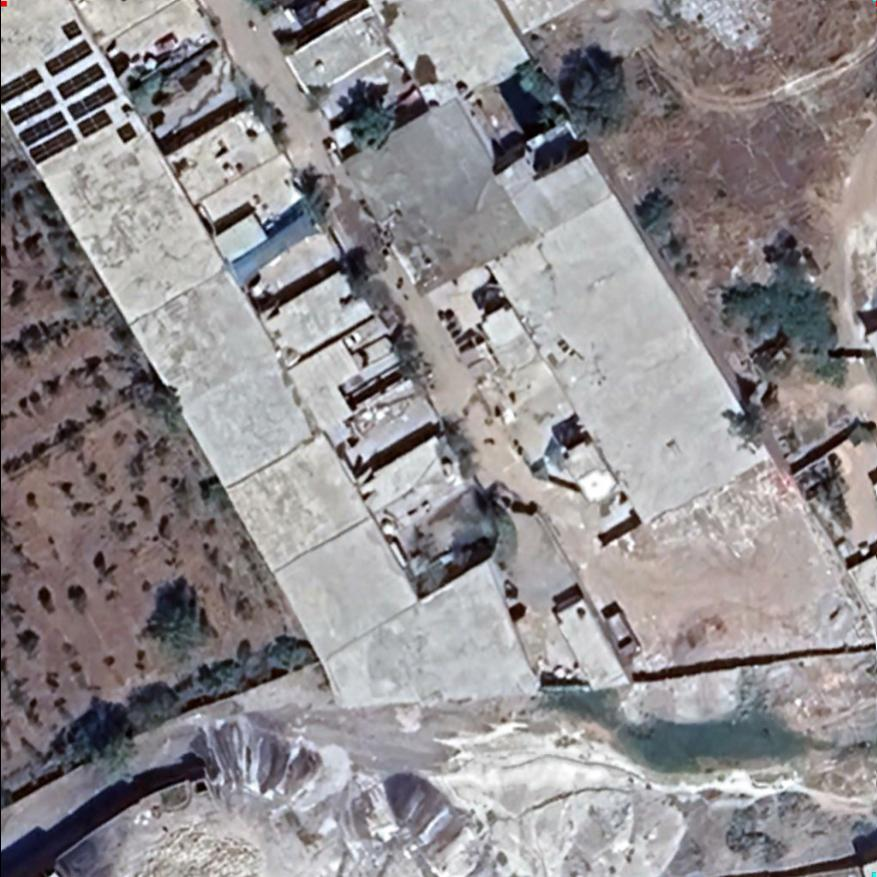Solarpanel: (112, 116, 142, 150), (52, 14, 85, 43)
